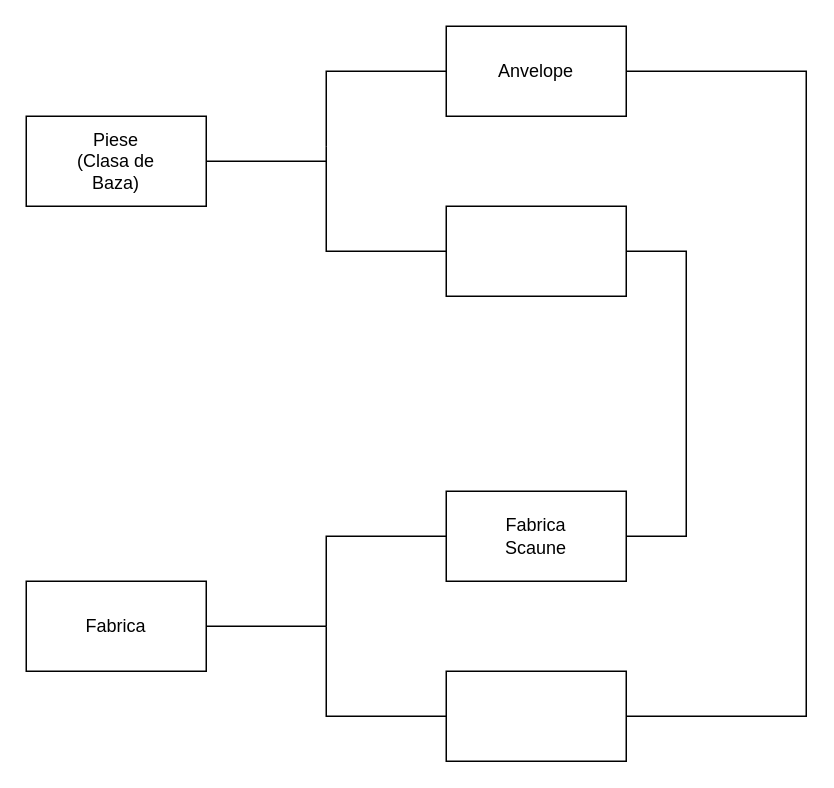
Some shapes in this 834 by 788 pixel diagram are drawn without their labels. Each missing label, with the centre of its shape:
"Fabrica Anvelope" goes at [535,715].
"Scaune" goes at [535,250].
